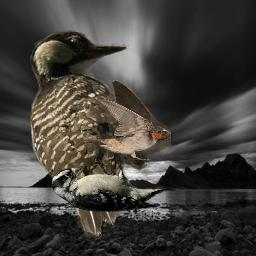Swallow: (83, 80, 171, 160)
Woodpecker: (30, 29, 152, 242), (52, 157, 176, 212)
